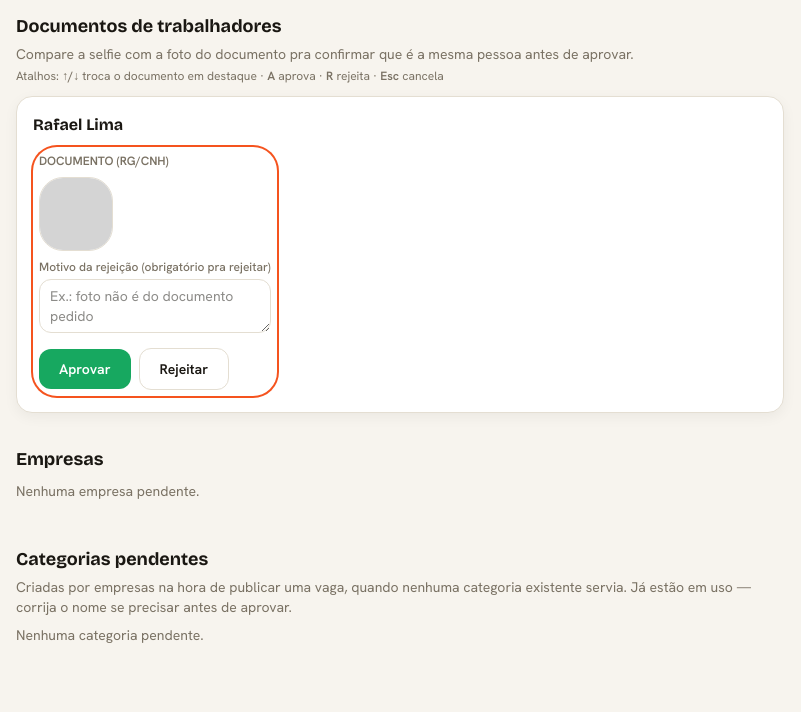
it: AdminVerificacoesPage › mostra erro e mantém o documento na lista quando revisar falha
This screenshot has width=801, height=712.
Expected: the text "Rafael Lima" is shown, [33,115,123,134]
Click the button "Aprovar": {"x": 85, "y": 369} [39,349,130,389]
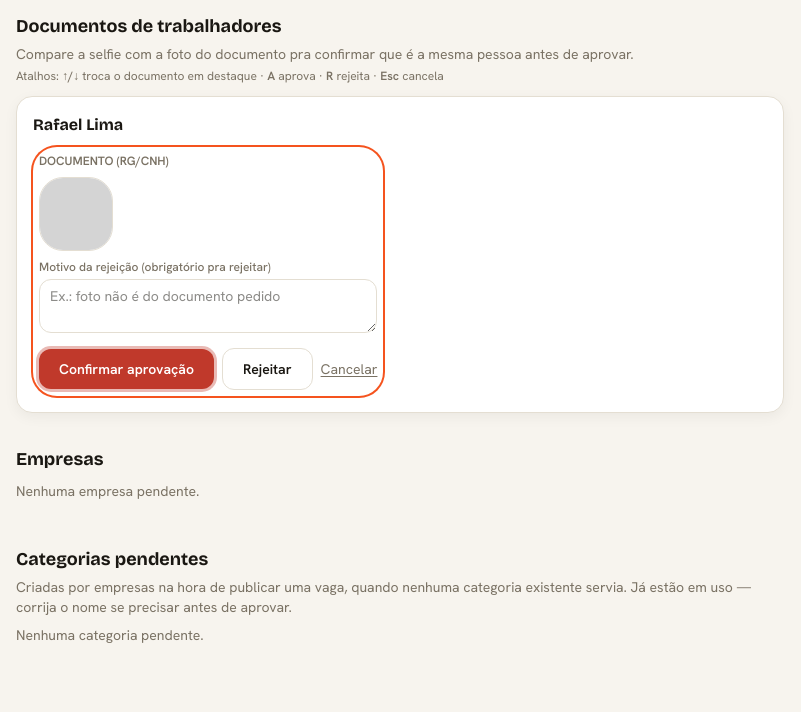
Click the button "Confirmar aprovação": {"x": 126, "y": 369} [39,349,214,389]
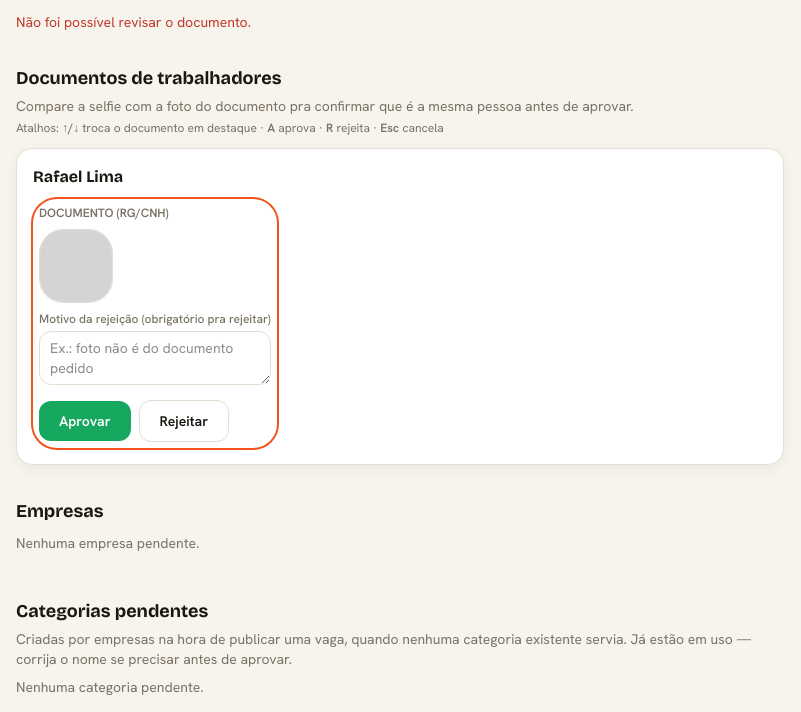
Expected: the text "Rafael Lima" is shown, [33,167,123,186]
Expected: the text "Não foi possível revisar o documento." is shown, [16,13,251,31]
